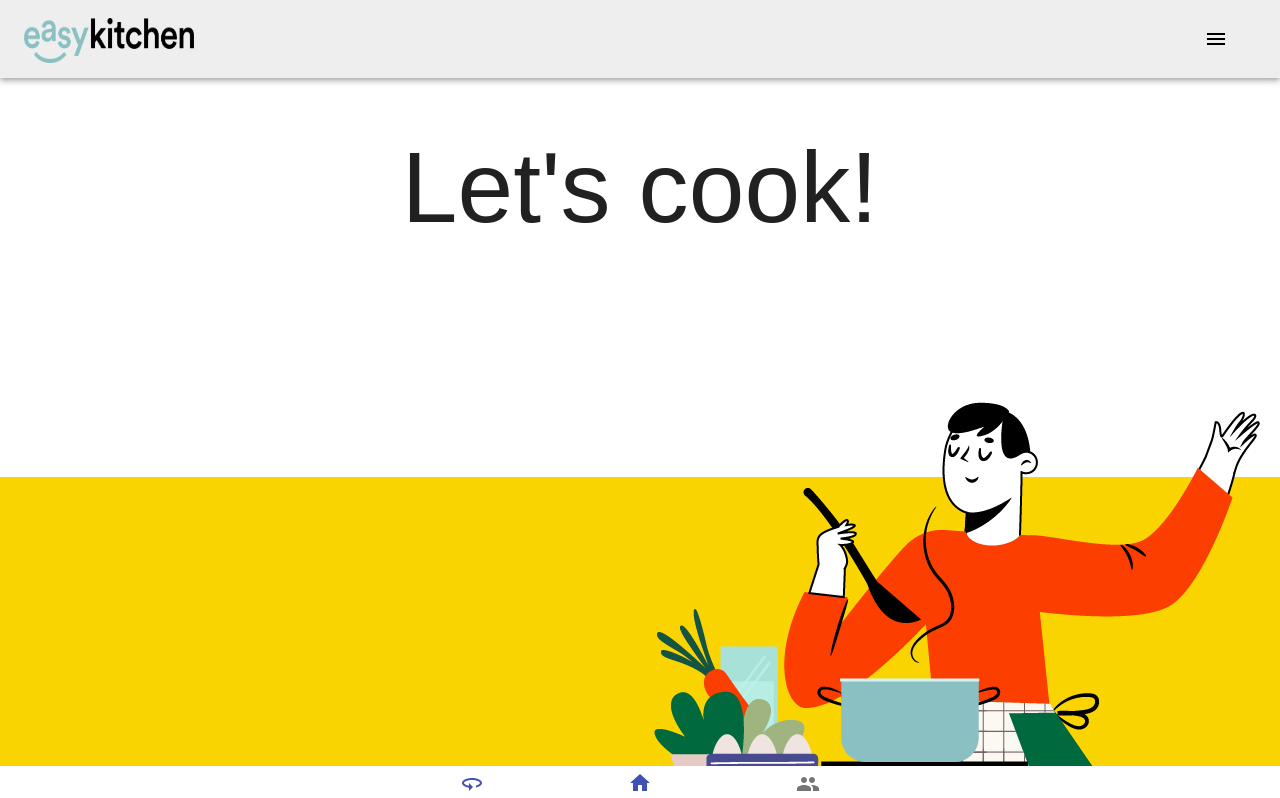
Scenario: TopNav render and nav function › on click opens navigation menu displays create a menu
Click the button with test id "Menutest": click(1216, 39) [1192,15,1240,63]
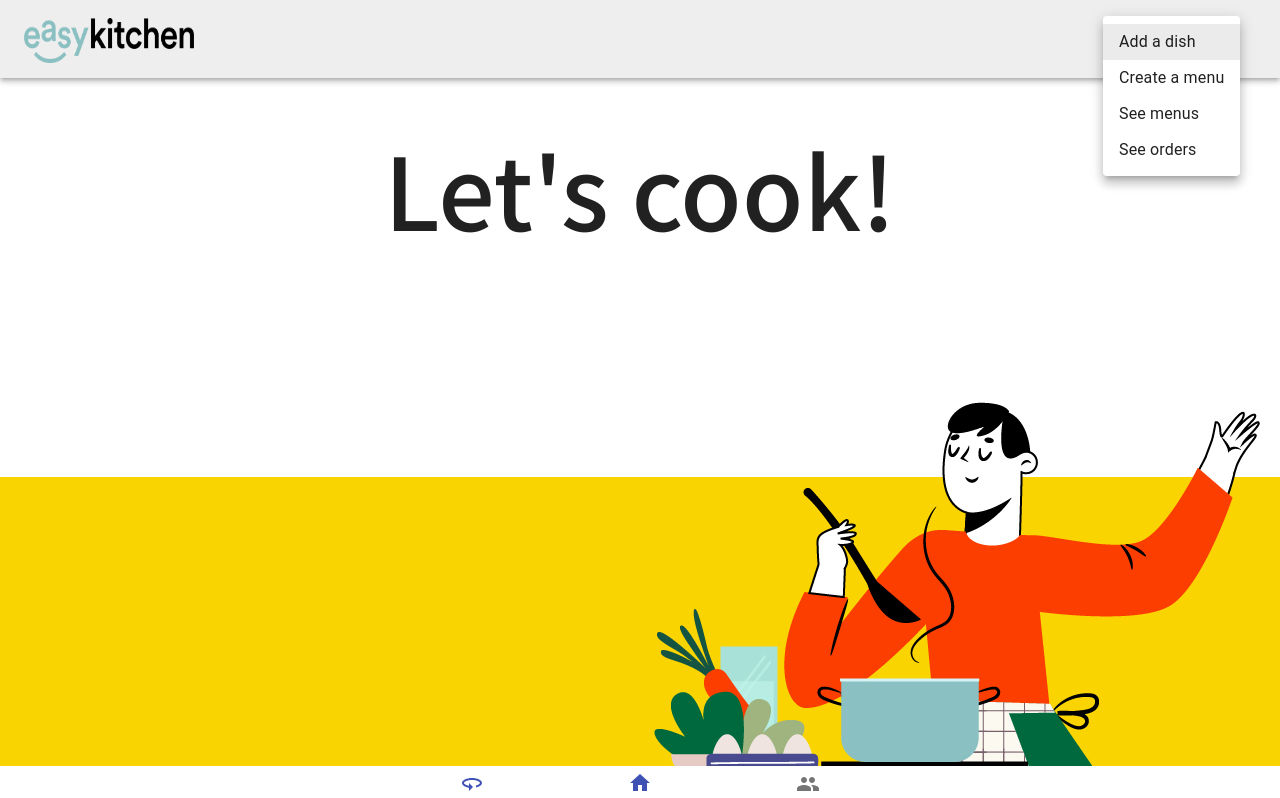
Expected: the menu item with test id "menu" is shown, [1119,68,1224,87]
